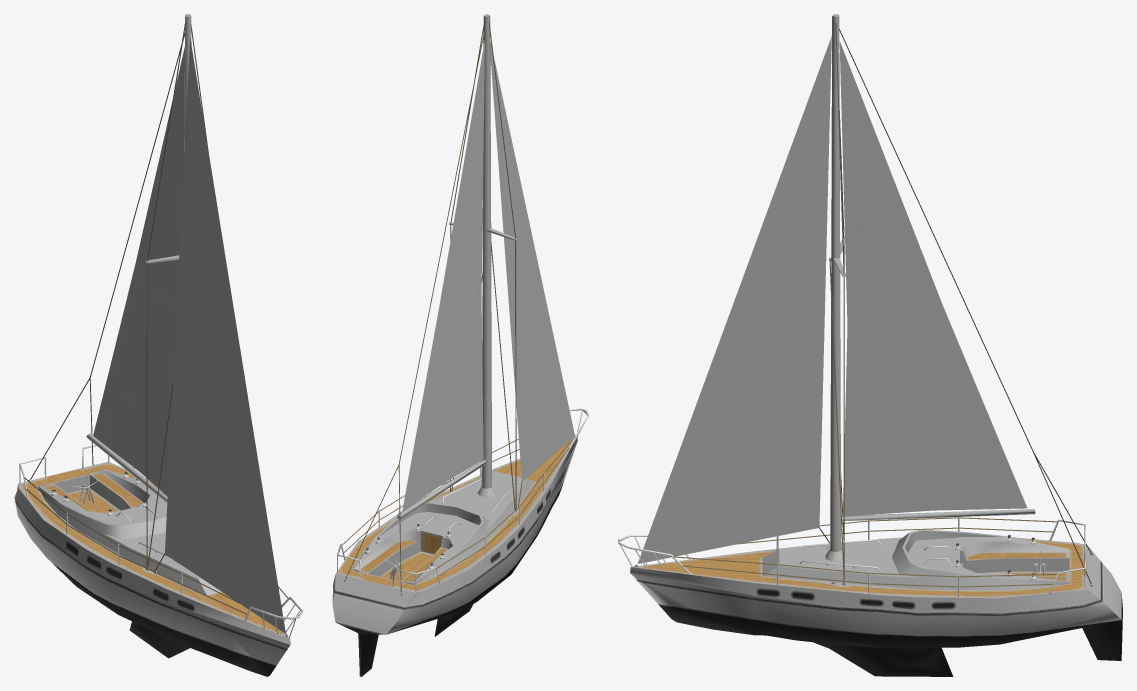
Rendered from bay-sailboat.lod0.glb.
3 renders of one model, left to right at view 1: azimuth 30°, elevation 25°; view 2: azimuth 150°, elevation 25°; view 3: azimuth 270°, elevation 25°, orthographic. The views are drawn at different scales.
Parts seen in each view (by area): view 1: Sailboat_01 - Default_0; view 2: Sailboat_01 - Default_0; view 3: Sailboat_01 - Default_0.
Part boxes in pixels (x1,y1,x2,y2): Sailboat_01 - Default_0: (14,14,303,676); Sailboat_01 - Default_0: (332,14,589,676); Sailboat_01 - Default_0: (618,14,1122,676).
Bounding box in the file's own units: 2.69 × 12.99 × 8.99.
1 material, 1 textured.
